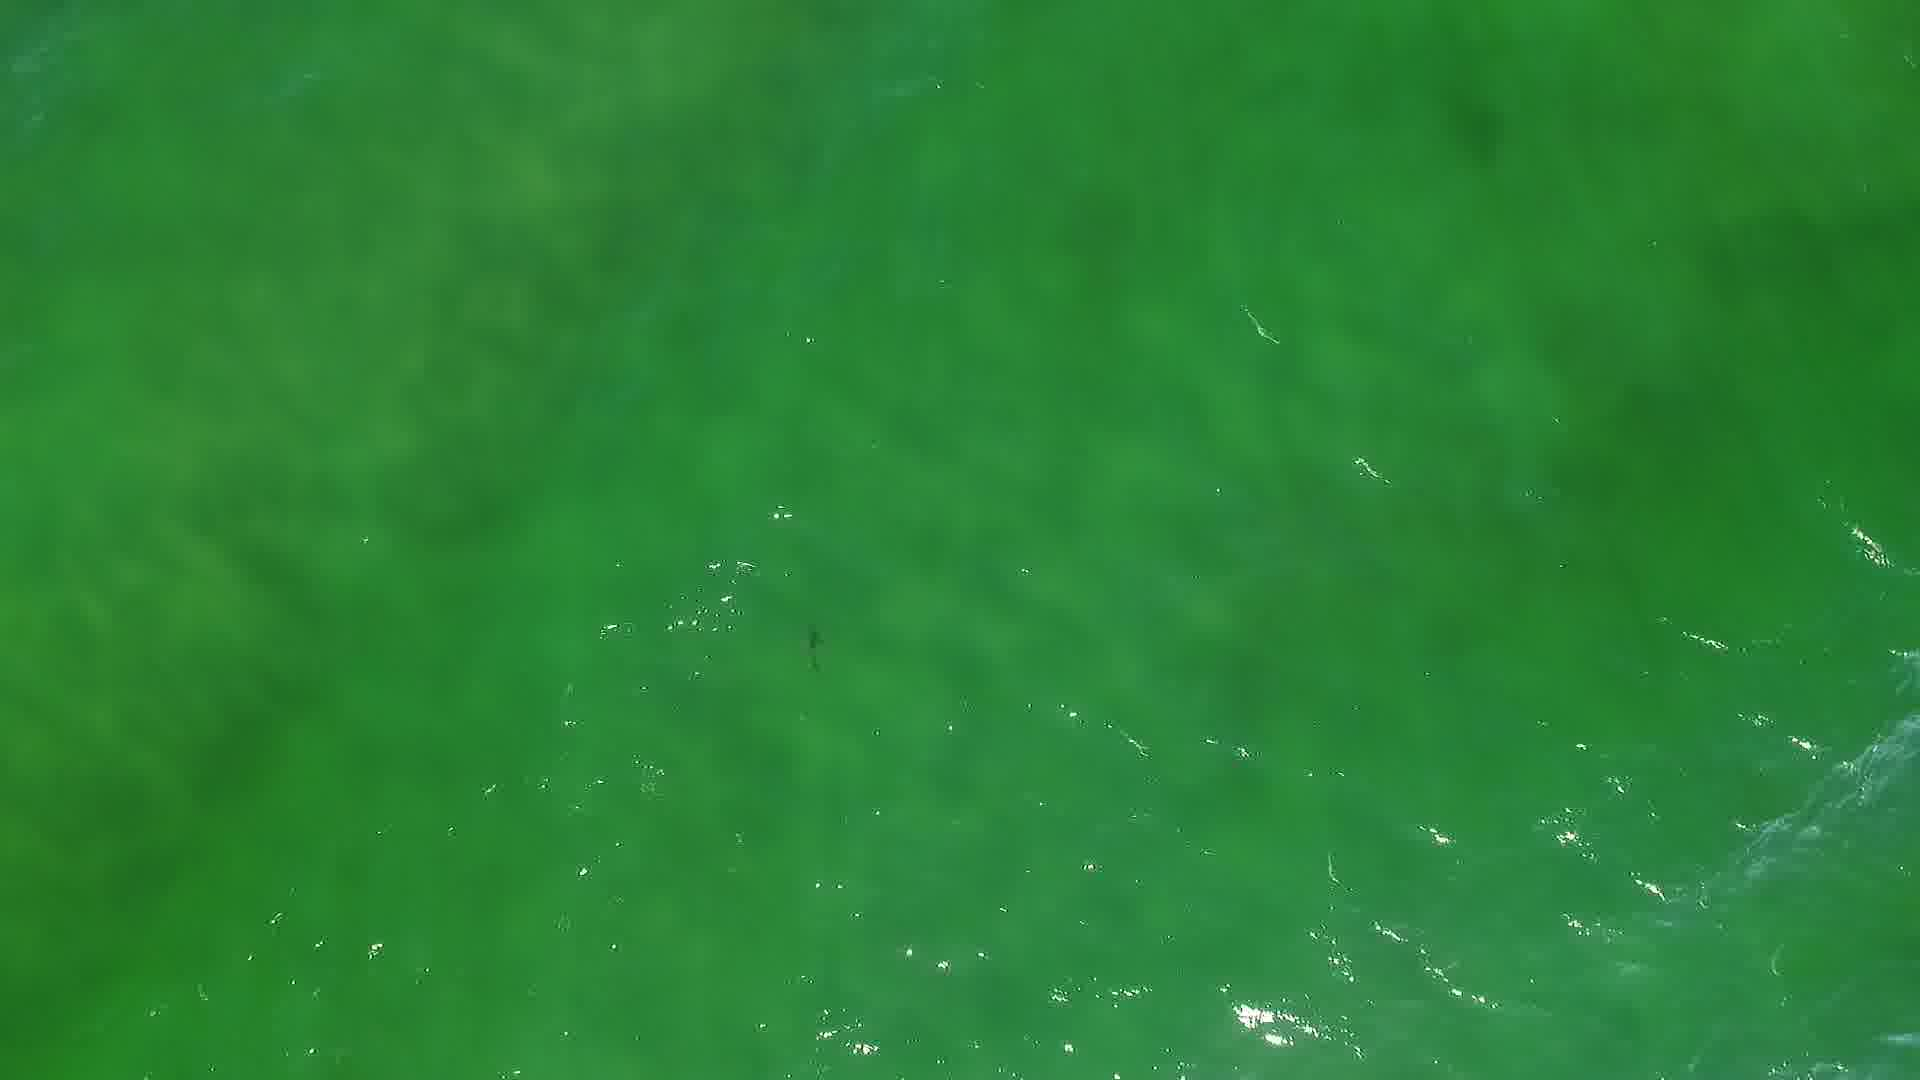shark: (800, 616, 828, 674)
